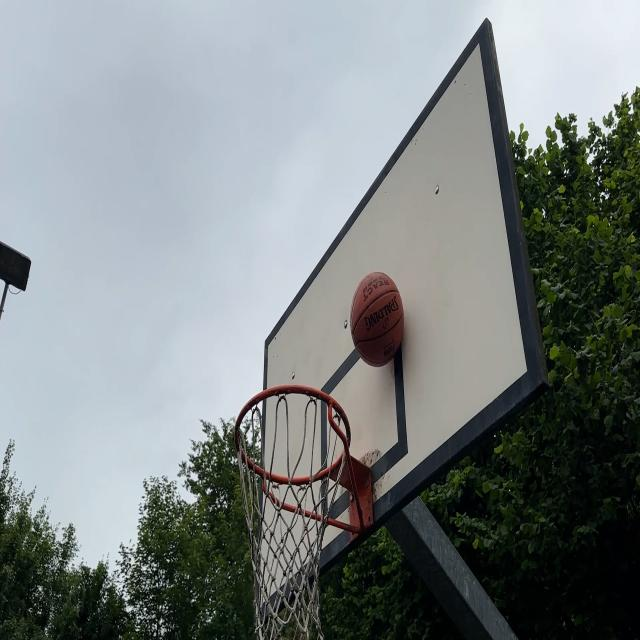rebound_hit: (351, 273, 406, 369)
